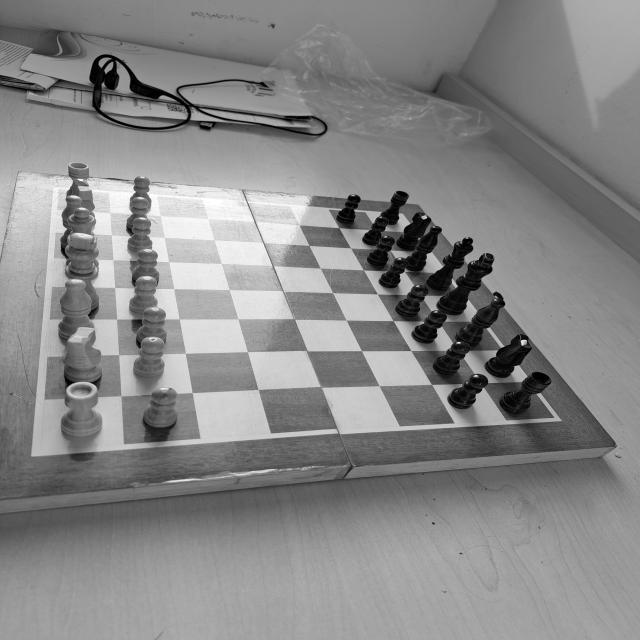chess-table-corners: (25, 438, 58, 462), (540, 408, 566, 426), (50, 184, 66, 194), (399, 212, 407, 216)
